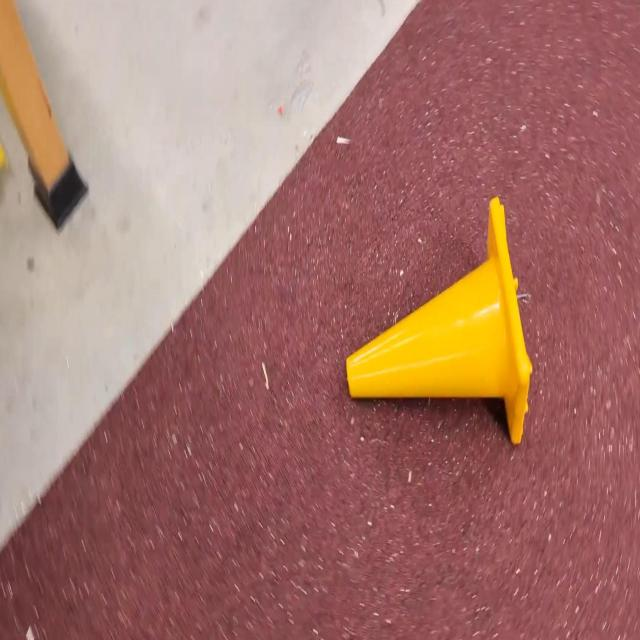frc_cone: (346, 202, 532, 446)
